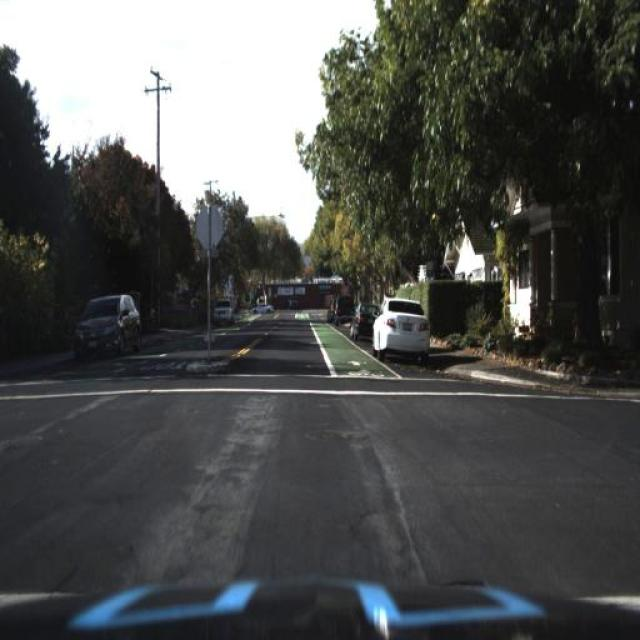car: (74, 290, 141, 360), (371, 294, 427, 362), (347, 301, 378, 343), (212, 296, 236, 326)
